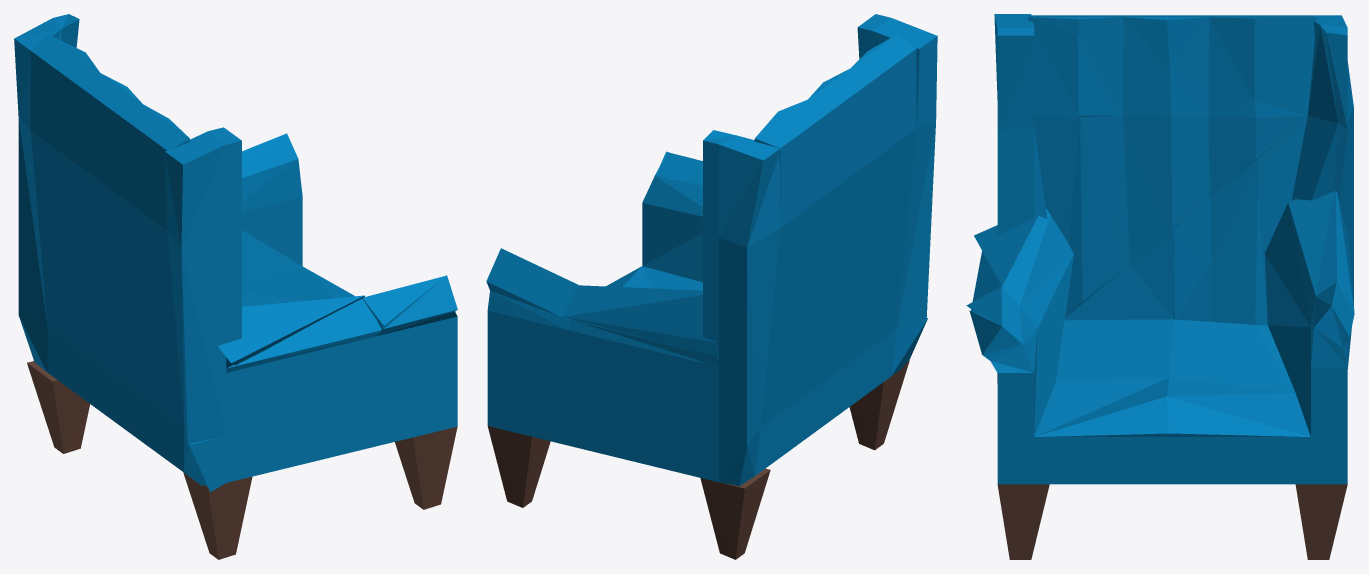
File: Armchair.glb
The picture shows the model from 3 angles, left to right: view 1: azimuth 30°, elevation 25°; view 2: azimuth 150°, elevation 25°; view 3: azimuth 270°, elevation 25°; orthographic projection.
Parts seen in each view (by area): view 1: node_MeshObject-1607706624-PolyPaper21; view 2: node_MeshObject-1607706624-PolyPaper21; view 3: node_MeshObject-1607706624-PolyPaper21.
Part boxes in pixels (bbox=[...]): node_MeshObject-1607706624-PolyPaper21: bbox=[14, 14, 457, 559]; node_MeshObject-1607706624-PolyPaper21: bbox=[486, 14, 937, 559]; node_MeshObject-1607706624-PolyPaper21: bbox=[966, 14, 1354, 559].
Bounding box in the file's own units: 1.07 × 1.54 × 1.26.
